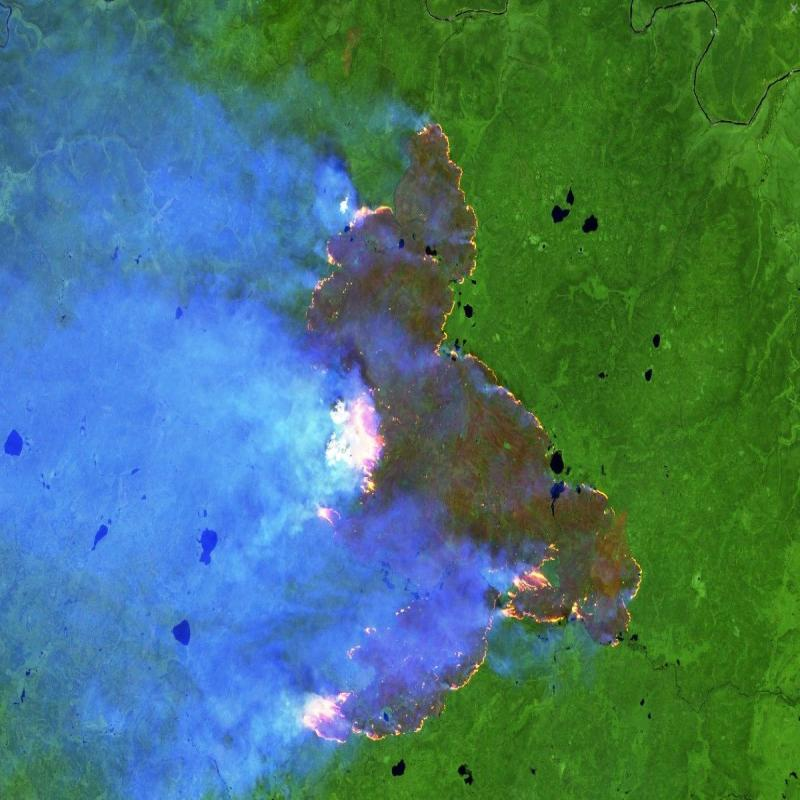fire: (208, 109, 649, 753)
